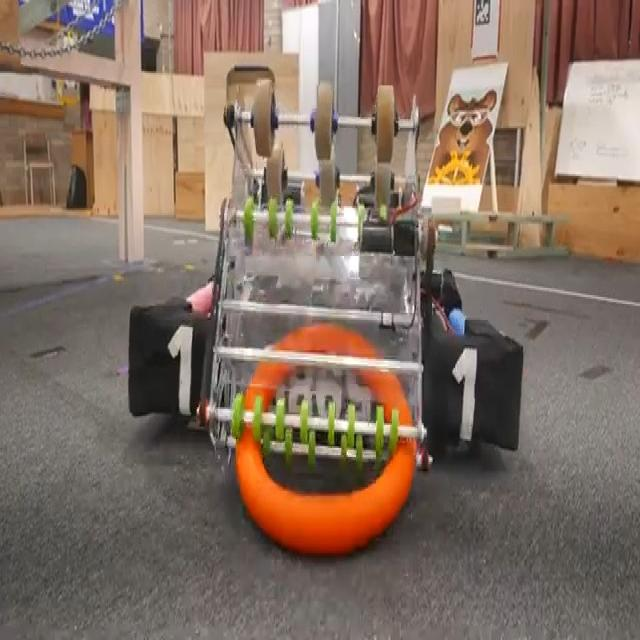note: (225, 418, 422, 555)
